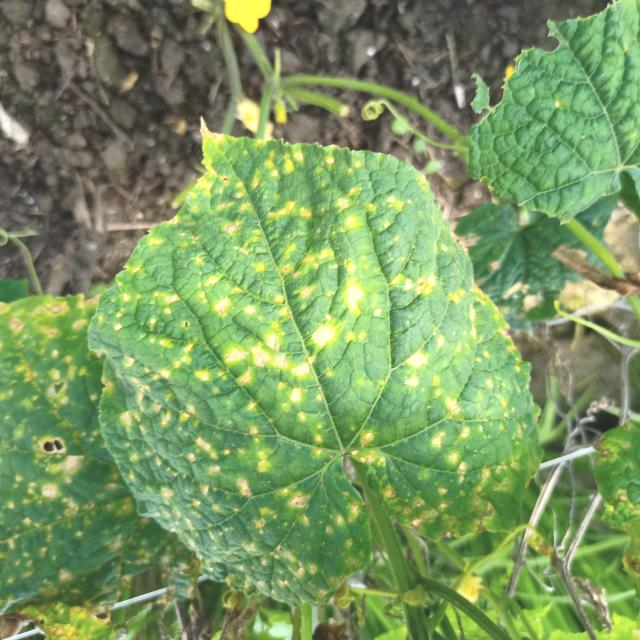disease_cucumber: (99, 140, 527, 598), (0, 299, 160, 615)
